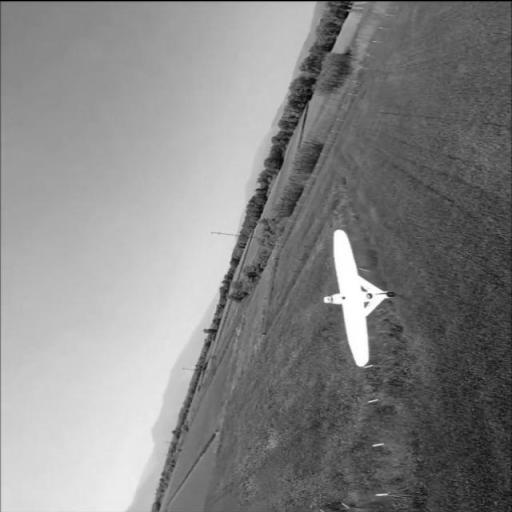uav: (326, 229, 388, 366)
